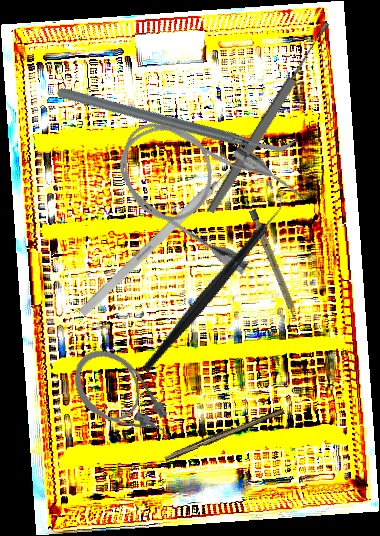Cannula: (98, 93, 311, 282), (59, 336, 186, 465)
Chopper: (53, 4, 301, 234), (100, 189, 327, 374)
Hook Surgical: (78, 157, 243, 317)
Scalpel Handle: (163, 404, 285, 464), (248, 209, 301, 322)
Surgical Spoon: (204, 19, 334, 216)
